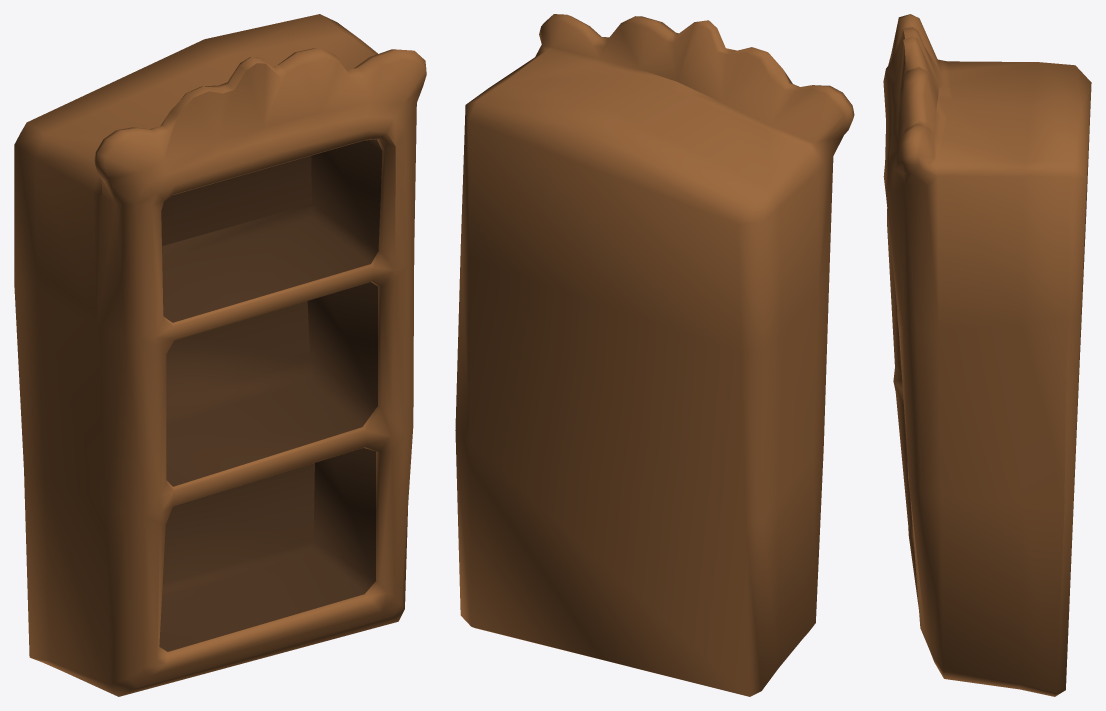
File: SmallShelf.fbx
3 views of the same model, side by side, from view 1: azimuth 30°, elevation 25°; view 2: azimuth 150°, elevation 25°; view 3: azimuth 270°, elevation 25° (orthographic). The views are drawn at different scales.
Visible parts, largest first — view 1: SmallShelf; view 2: SmallShelf; view 3: SmallShelf.
Boxes of the visible parts, left/top/right/bottom form: SmallShelf: left=14, top=14, right=426, bottom=696; SmallShelf: left=455, top=14, right=854, bottom=696; SmallShelf: left=883, top=14, right=1091, bottom=696.
Bounding box in the file's own units: 37.98 × 67.4 × 21.77.
